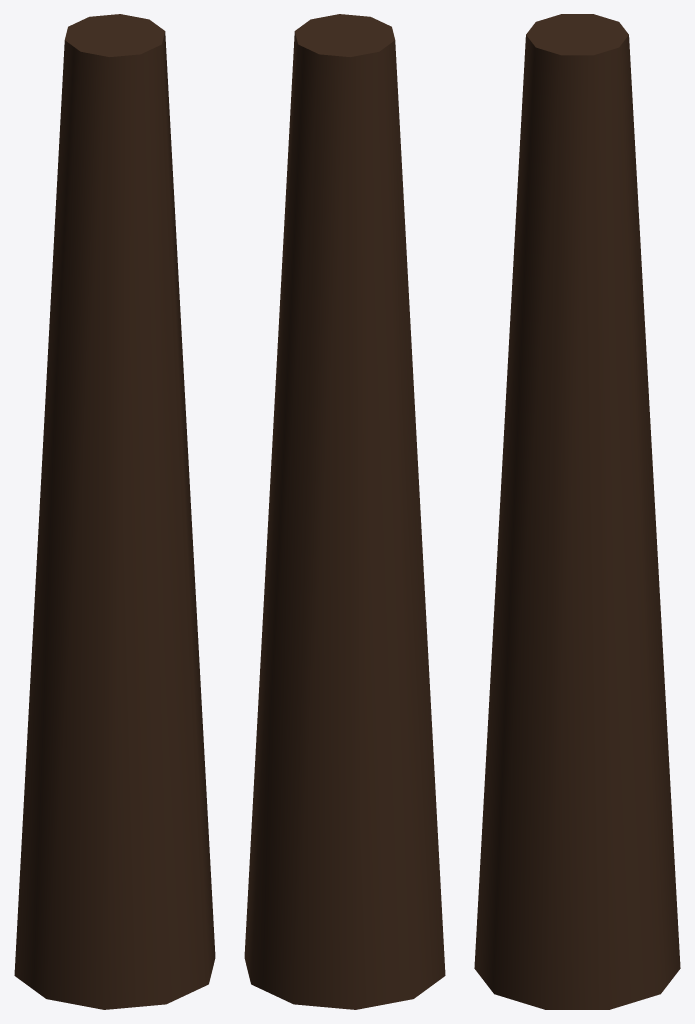
The model's file is tunnel-root-1.glb.
The picture shows the model from 3 angles, left to right: view 1: azimuth 30°, elevation 25°; view 2: azimuth 150°, elevation 25°; view 3: azimuth 270°, elevation 25°; orthographic projection.
Parts seen in each view (by area): view 1: Tunnel Root 1; view 2: Tunnel Root 1; view 3: Tunnel Root 1.
Boxes of the visible parts, x1,y1,x2,y2 form: Tunnel Root 1: [14, 14, 215, 1009]; Tunnel Root 1: [244, 14, 445, 1009]; Tunnel Root 1: [474, 14, 680, 1009].
Bounding box in the file's own units: 5.76 × 30.3 × 6.06.
